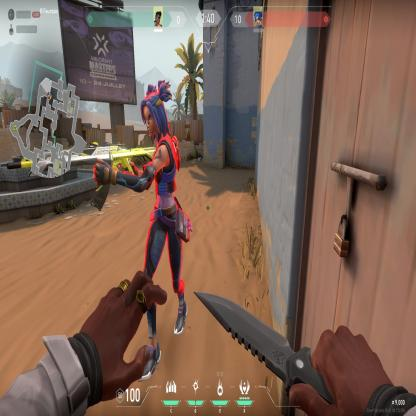enemy: (90, 79, 194, 379)
